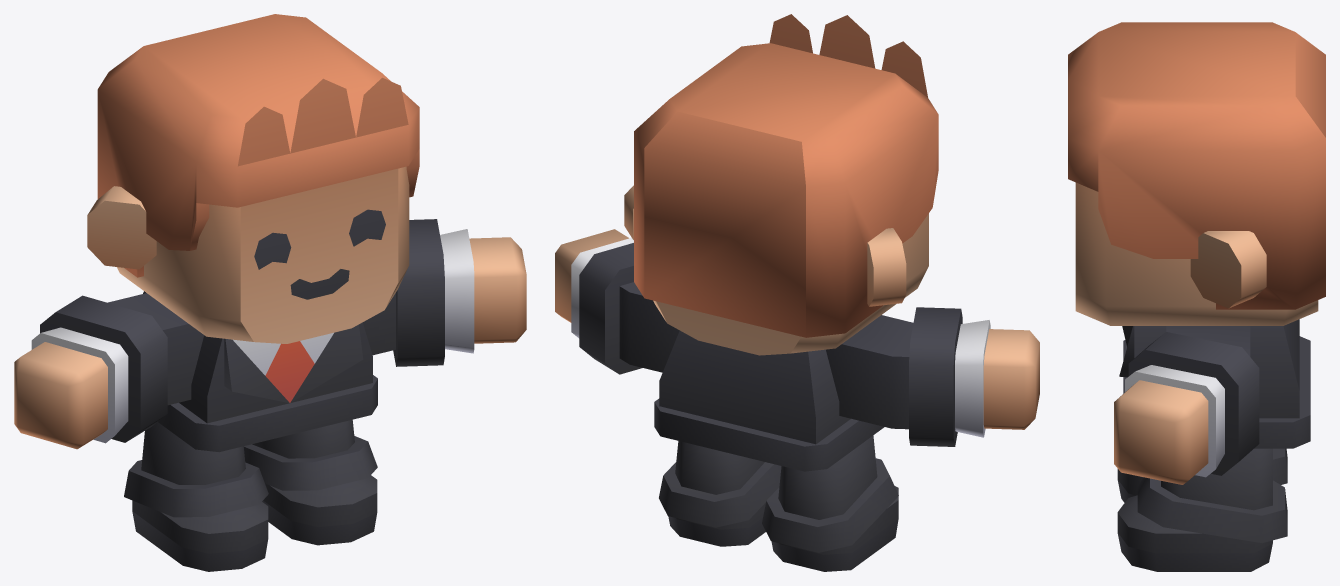
File: character-male-d.obj
3 renders of one model, left to right at view 1: azimuth 30°, elevation 25°; view 2: azimuth 150°, elevation 25°; view 3: azimuth 270°, elevation 25°, orthographic. The views are drawn at different scales.
Visible parts, largest first — view 1: head-mesh, body-mesh; view 2: head-mesh, body-mesh; view 3: head-mesh, body-mesh.
Boxes of the visible parts, <box> form: head-mesh: <box>87,14,419,343</box>; body-mesh: <box>14,219,526,571</box>; head-mesh: <box>624,14,938,355</box>; body-mesh: <box>555,229,1039,571</box>; head-mesh: <box>1068,22,1325,325</box>; body-mesh: <box>1114,319,1310,571</box>.
Bounding box in the file's own units: 0.7672 × 0.7218 × 0.34.
1 material, 1 textured.
